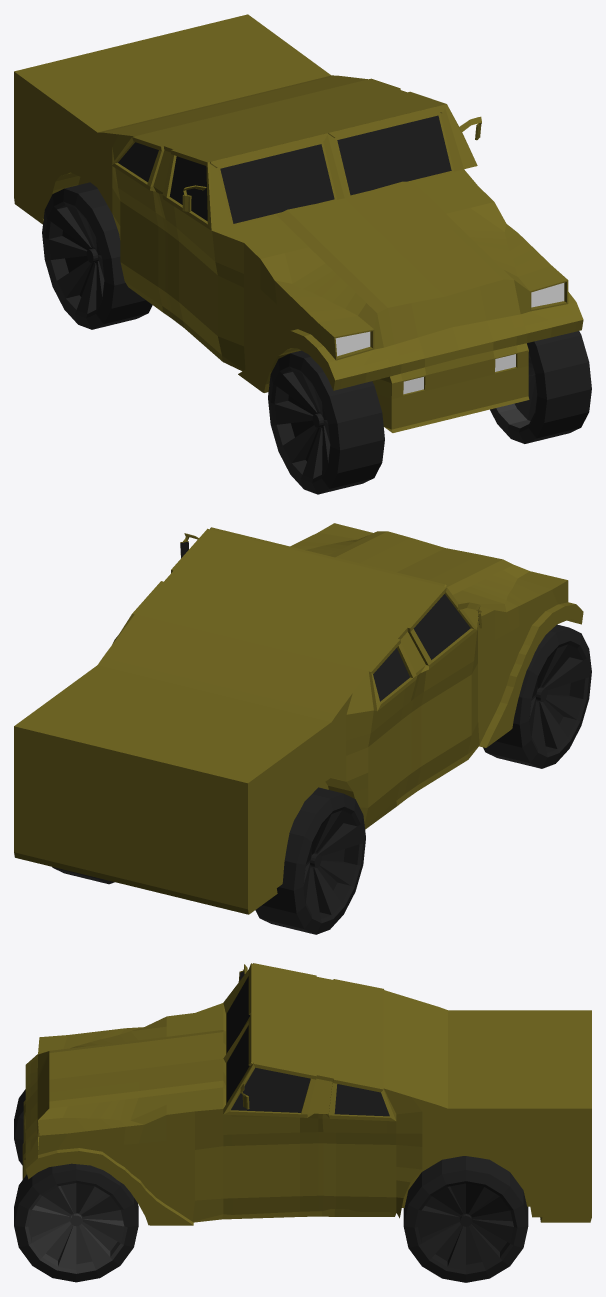
File: baby game car 1.fbx
The picture shows the model from 3 angles, top to bottom: view 1: azimuth 30°, elevation 25°; view 2: azimuth 150°, elevation 25°; view 3: azimuth 270°, elevation 25°; orthographic projection. The views are drawn at different scales.
Parts seen in each view (by area): view 1: Body, Front Right Wheel, Rear Right Wheel, Front Left Wheel; view 2: Body, Rear Right Wheel, Front Right Wheel; view 3: Body, Rear Left Wheel, Front Left Wheel, Front Right Wheel.
Boxes of the visible parts, x1=… form: Body: x1=14, y1=14, x2=583, y2=432; Front Right Wheel: x1=268, y1=350, x2=384, y2=494; Rear Right Wheel: x1=42, y1=182, x2=152, y2=329; Front Left Wheel: x1=490, y1=331, x2=591, y2=443; Body: x1=14, y1=523, x2=583, y2=914; Rear Right Wheel: x1=255, y1=787, x2=365, y2=934; Front Right Wheel: x1=483, y1=624, x2=591, y2=768; Body: x1=22, y1=963, x2=591, y2=1225; Rear Left Wheel: x1=403, y1=1156, x2=528, y2=1282; Front Left Wheel: x1=14, y1=1163, x2=138, y2=1282; Front Right Wheel: x1=14, y1=1089, x2=25, y2=1165.
Size of the model in its own units: 361 by 289 by 697.
